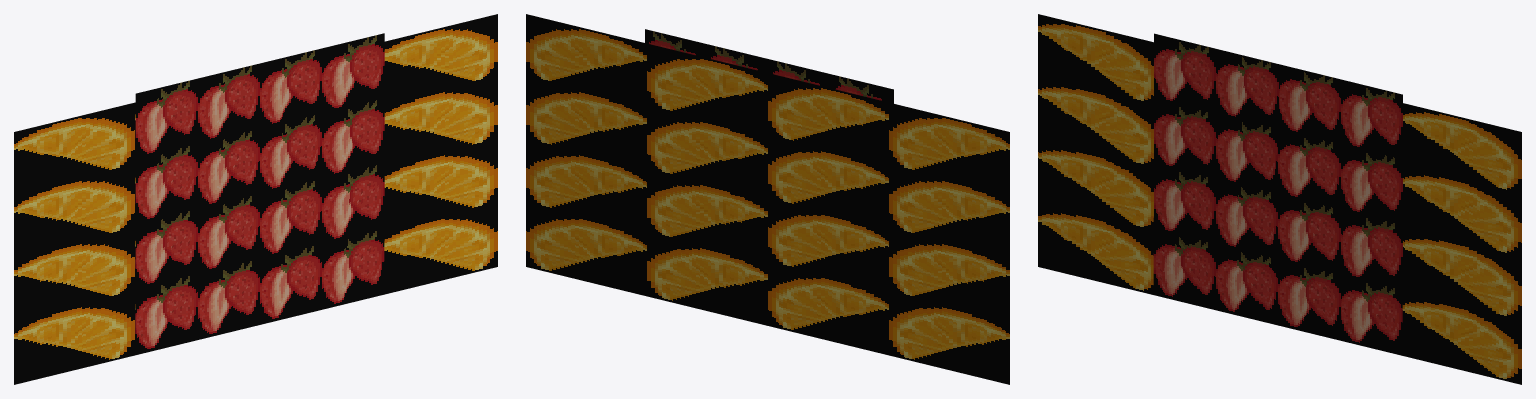
The model's file is 1174item3535.gltf.
3 renders of one model, left to right at view 1: azimuth 30°, elevation 25°; view 2: azimuth 150°, elevation 25°; view 3: azimuth 330°, elevation 25°, orthographic.
Parts seen in each view (by area): view 1: 1174item3535; view 2: 1174item3535; view 3: 1174item3535.
Part boxes in pixels (bbox=[...]): 1174item3535: bbox=[14, 14, 497, 384]; 1174item3535: bbox=[526, 14, 1009, 384]; 1174item3535: bbox=[1038, 14, 1521, 384].
Bounding box in the file's own units: 0.3867 × 0.2019 × 0.00391.
2 materials, 2 textured.
